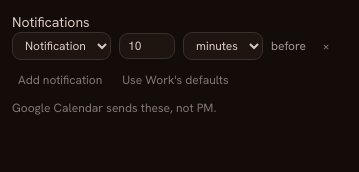
Test: ReminderList › Add goes to the new row's number, Remove to the row before or to Add
Click the button "Add notification": (60, 80) [12,68,108,92]
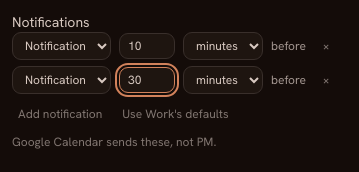
Click the button named "Remove notification: 30 minutes before": (326, 80) [314,68,338,92]
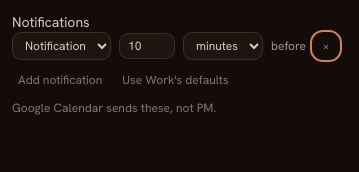
Click the button named "Remove notification: 10 minutes before": (326, 46) [314,34,338,58]
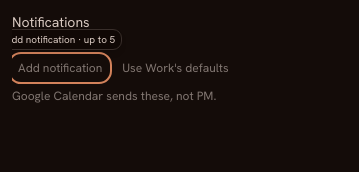
Check: the text "No notifications." is shown, box [12,32,98,48]
